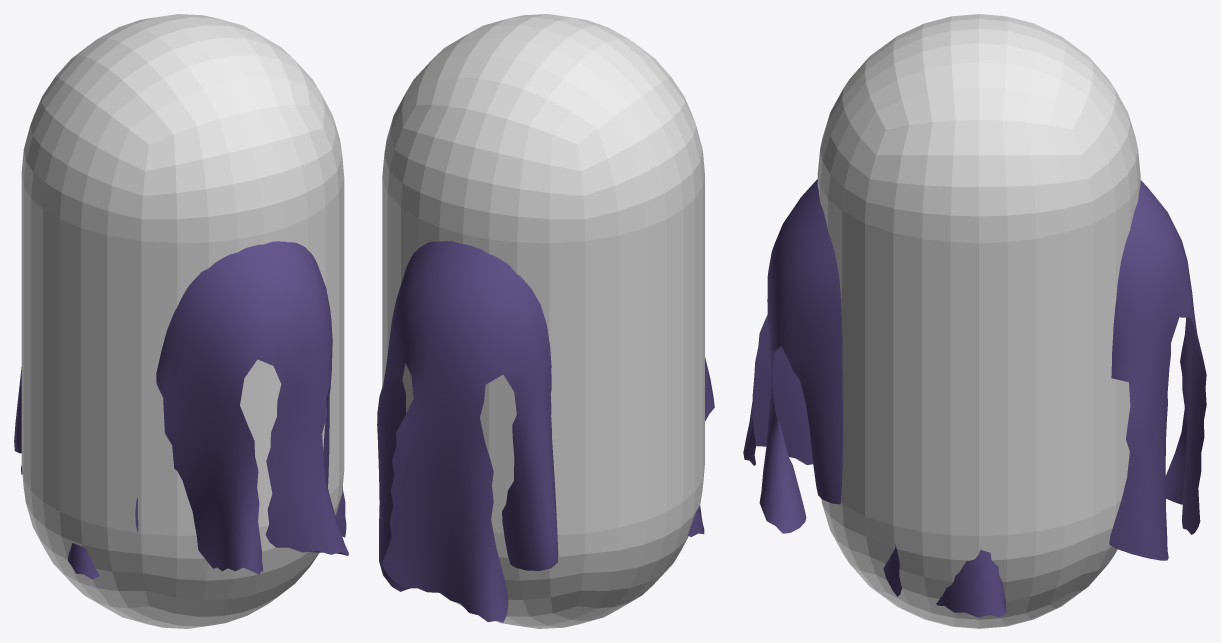
Rendered from ghost.glb.
The picture shows the model from 3 angles, left to right: view 1: azimuth 30°, elevation 25°; view 2: azimuth 150°, elevation 25°; view 3: azimuth 270°, elevation 25°; orthographic projection.
Parts seen in each view (by area): view 1: shape, model; view 2: shape, model; view 3: shape, model.
Part boxes in pixels (x1,y1,x2,y2): shape: (21, 14, 344, 628); model: (14, 241, 348, 579); shape: (382, 14, 704, 628); model: (377, 241, 714, 622); shape: (817, 14, 1140, 628); model: (743, 179, 1206, 617).
Size of the model in its own units: 1.03 by 2 by 1.43.
